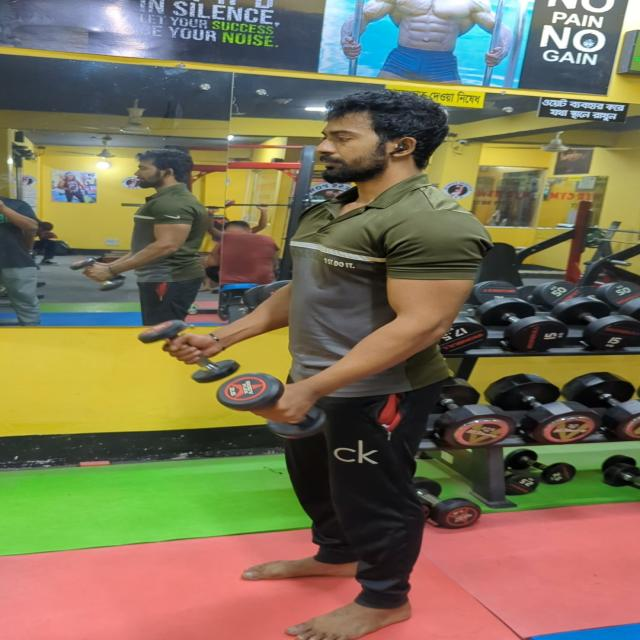Normal_DumbbellBicepCurls: (162, 96, 509, 640)
